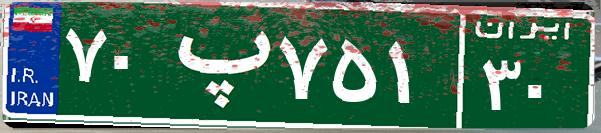0: (110, 28, 158, 105), (525, 38, 570, 115)
1: (385, 28, 445, 110)
3: (475, 38, 525, 113)
5: (330, 28, 385, 110)
7: (273, 28, 330, 110), (57, 26, 110, 107)
پ: (158, 15, 273, 115)
